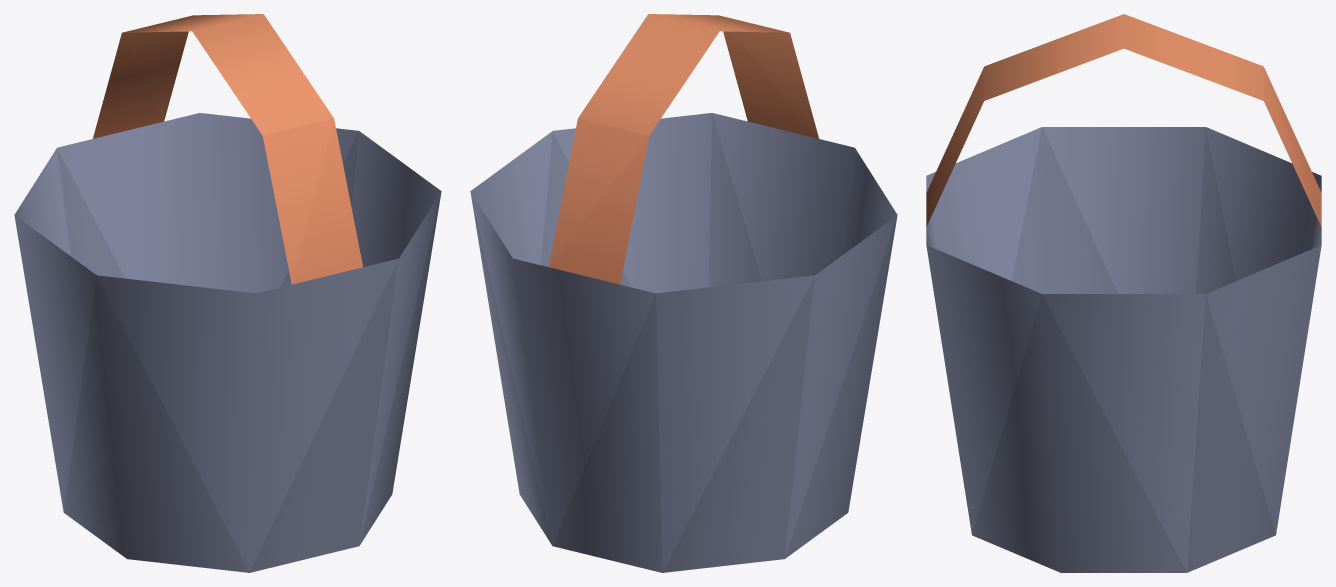
File: bucket.glb
3 views of the same model, side by side, from view 1: azimuth 30°, elevation 25°; view 2: azimuth 150°, elevation 25°; view 3: azimuth 270°, elevation 25° (orthographic).
Parts seen in each view (by area): view 1: c979ebe, c8a91ad, ce78f65, cdb845d, cdf8860; view 2: c979ebe, c8a91ad, ce78f65, cdb845d, cdf8860; view 3: c979ebe, c8a91ad, ce78f65, cdf8860, cdb845d.
Boxes of the visible parts, box(x1,y1,x2,y2) form: c979ebe: box(14, 113, 441, 572); c8a91ad: box(57, 132, 441, 572); ce78f65: box(123, 14, 333, 135); cdb845d: box(93, 33, 362, 284); cdf8860: box(122, 31, 333, 284); c979ebe: box(470, 113, 897, 572); c8a91ad: box(470, 113, 897, 572); ce78f65: box(578, 14, 788, 135); cdb845d: box(549, 31, 818, 284); cdf8860: box(549, 31, 818, 266); c979ebe: box(926, 127, 1321, 572); c8a91ad: box(972, 127, 1321, 572); ce78f65: box(984, 14, 1263, 100); cdf8860: box(926, 67, 1320, 225); cdb845d: box(926, 68, 1321, 226).
Size of what is drawn, in the model's own units: 0.1441 by 0.1921 by 0.1441.
